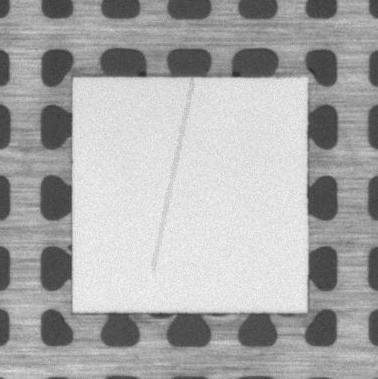DIE_CRACK: (153, 80, 192, 271)
